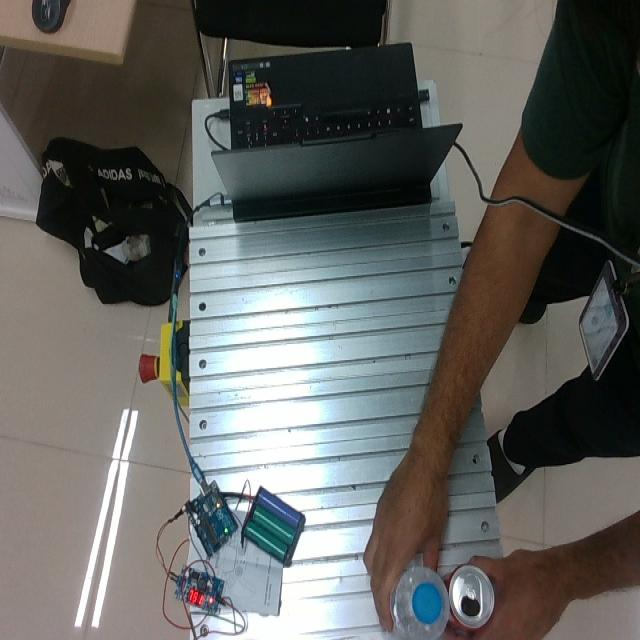coca: (447, 563, 495, 629)
lavie: (390, 563, 450, 637)
